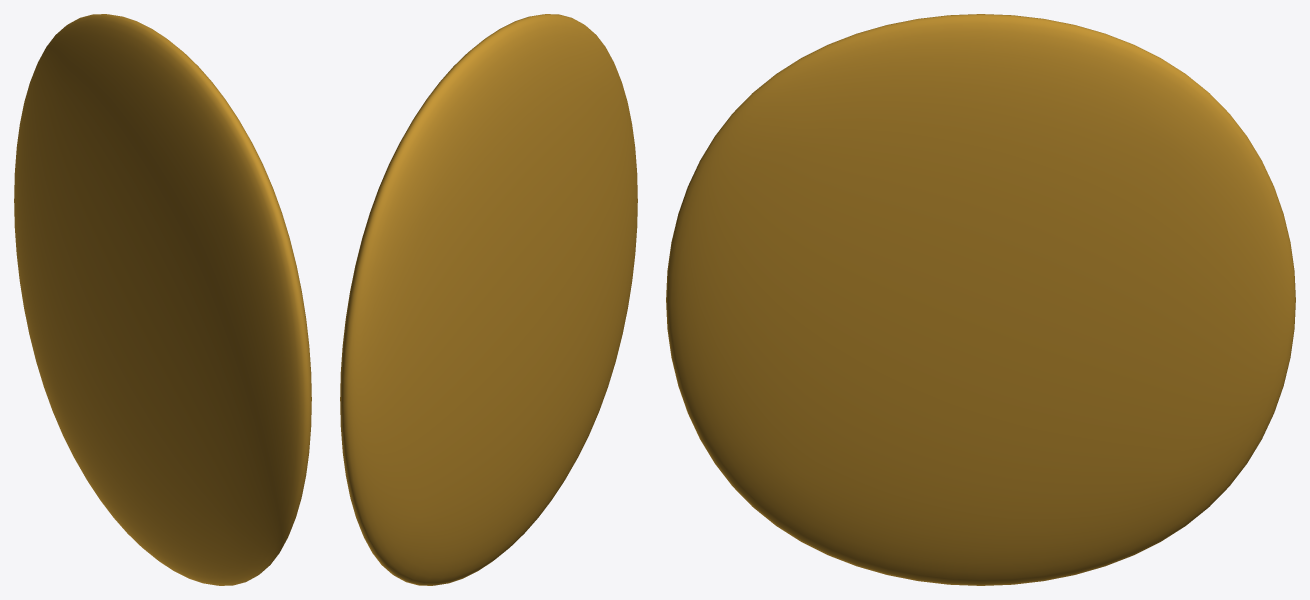
File: gold.gltf
The picture shows the model from 3 angles, left to right: view 1: azimuth 30°, elevation 25°; view 2: azimuth 150°, elevation 25°; view 3: azimuth 270°, elevation 25°; orthographic projection. The views are drawn at different scales.
Parts seen in each view (by area): view 1: Gold_n3d; view 2: Gold_n3d; view 3: Gold_n3d.
Part boxes in pixels (x1,y1,x2,y2): Gold_n3d: (14,14,311,585); Gold_n3d: (340,14,637,585); Gold_n3d: (666,14,1295,585).
Bounding box in the file's own units: 0.2708 × 2.06 × 2.06.
